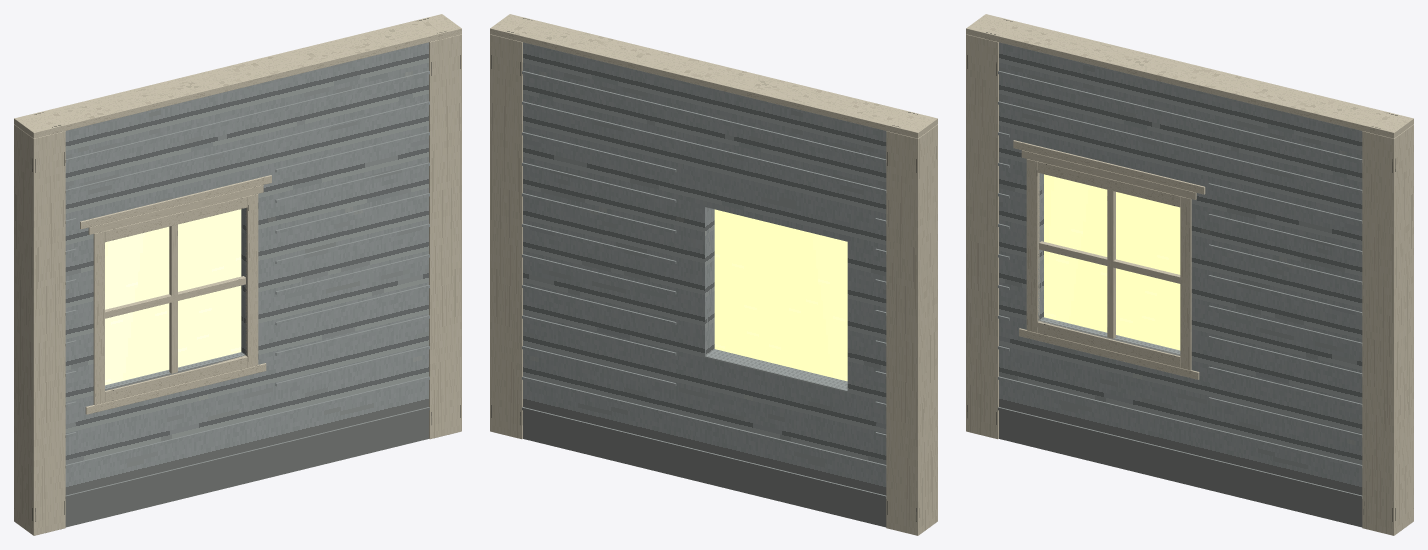
The model's file is house_02_wall_window.glb.
3 views of the same model, side by side, from view 1: azimuth 30°, elevation 25°; view 2: azimuth 150°, elevation 25°; view 3: azimuth 330°, elevation 25° (orthographic).
Parts seen in each view (by area): view 1: house_02_wall_window; view 2: house_02_wall_window; view 3: house_02_wall_window.
Boxes of the visible parts, bbox=[...] form: house_02_wall_window: bbox=[14, 14, 461, 535]; house_02_wall_window: bbox=[490, 14, 937, 535]; house_02_wall_window: bbox=[966, 14, 1413, 535].
Bounding box in the file's own units: 3 × 2.7 × 0.24.
Materials: 3 (3 with a texture image).
